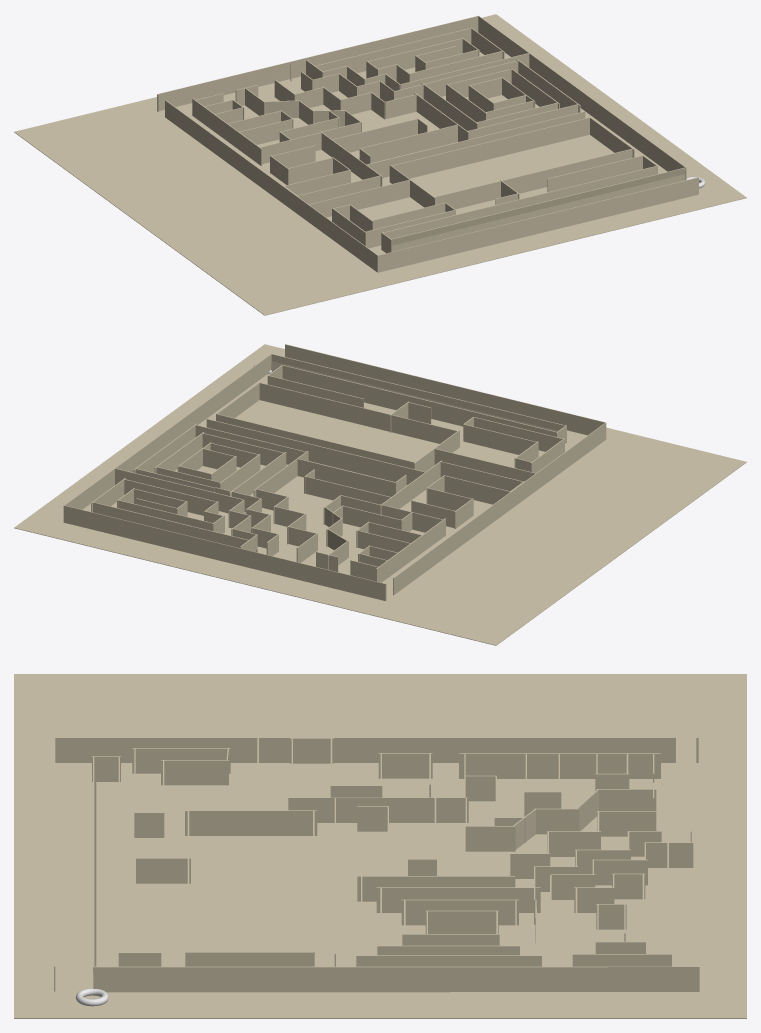
The picture shows the model from 3 angles, top to bottom: view 1: azimuth 30°, elevation 25°; view 2: azimuth 150°, elevation 25°; view 3: azimuth 270°, elevation 25°; orthographic projection. The views are drawn at different scales.
Visible parts, largest first — view 1: Layer:0, Box001; view 2: Layer:0, Box001; view 3: Box001, Layer:0.
Part boxes in pixels (bbox=[...]): Layer:0: bbox=[157, 15, 698, 272]; Box001: bbox=[14, 14, 746, 315]; Layer:0: bbox=[63, 344, 606, 600]; Box001: bbox=[14, 344, 746, 645]; Box001: bbox=[14, 674, 746, 1018]; Layer:0: bbox=[54, 737, 699, 992].
Bounding box in the file's own units: 219 × 8.43 × 197.
